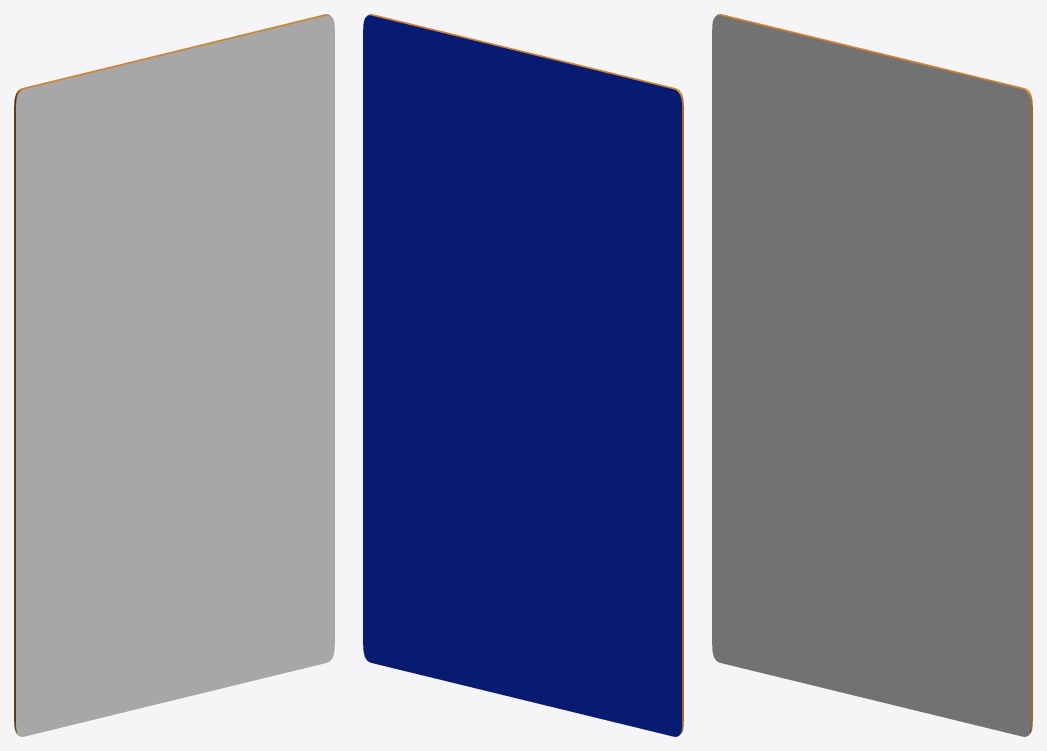
Rendered from card.glb.
3 renders of one model, left to right at view 1: azimuth 30°, elevation 25°; view 2: azimuth 150°, elevation 25°; view 3: azimuth 330°, elevation 25°, orthographic.
Visible parts, largest first — view 1: Plane; view 2: Plane; view 3: Plane.
Boxes of the visible parts, x1=… form: Plane: x1=14, y1=14, x2=334, y2=736; Plane: x1=363, y1=14, x2=683, y2=736; Plane: x1=712, y1=14, x2=1032, y2=736.
Size of the model in its own units: 2.05 by 3.98 by 0.02.
